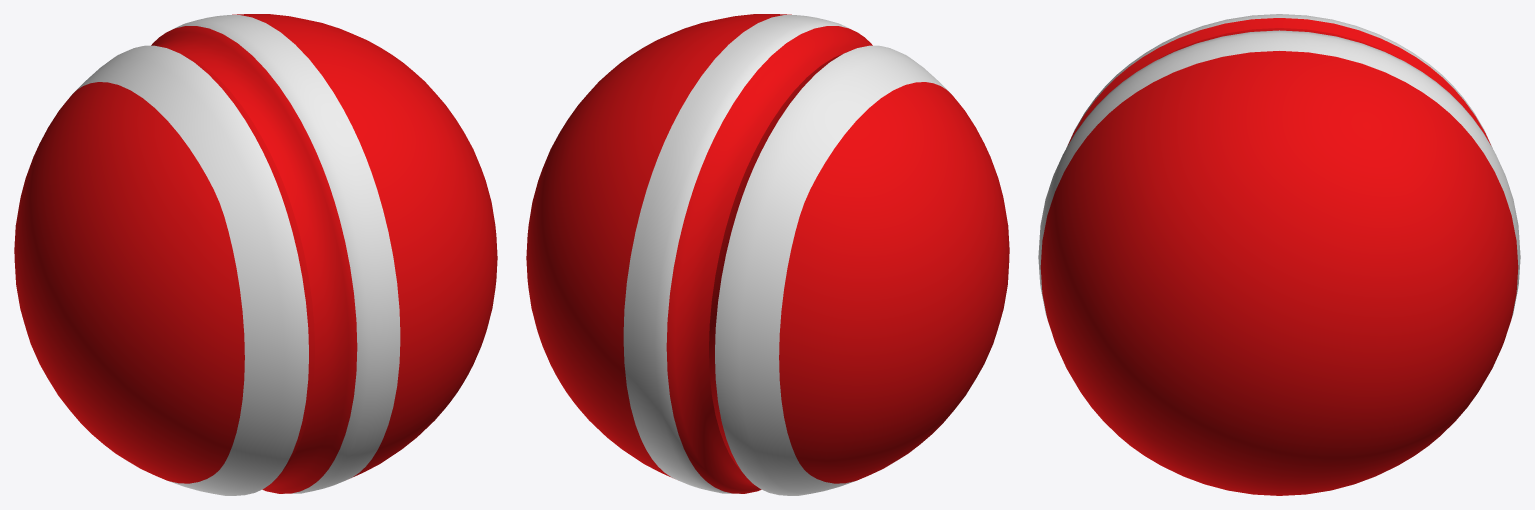
File: resulta 4.fbx
The picture shows the model from 3 angles, left to right: view 1: azimuth 30°, elevation 25°; view 2: azimuth 150°, elevation 25°; view 3: azimuth 270°, elevation 25°; orthographic projection.
Visible parts, largest first — view 1: Cube; view 2: Cube; view 3: Cube.
Part boxes in pixels (x1,y1,x2,y2): Cube: (14,14,497,495); Cube: (526,14,1009,495); Cube: (1038,14,1520,495).
Size of the model in its own units: 9804 by 9866 by 9866.
